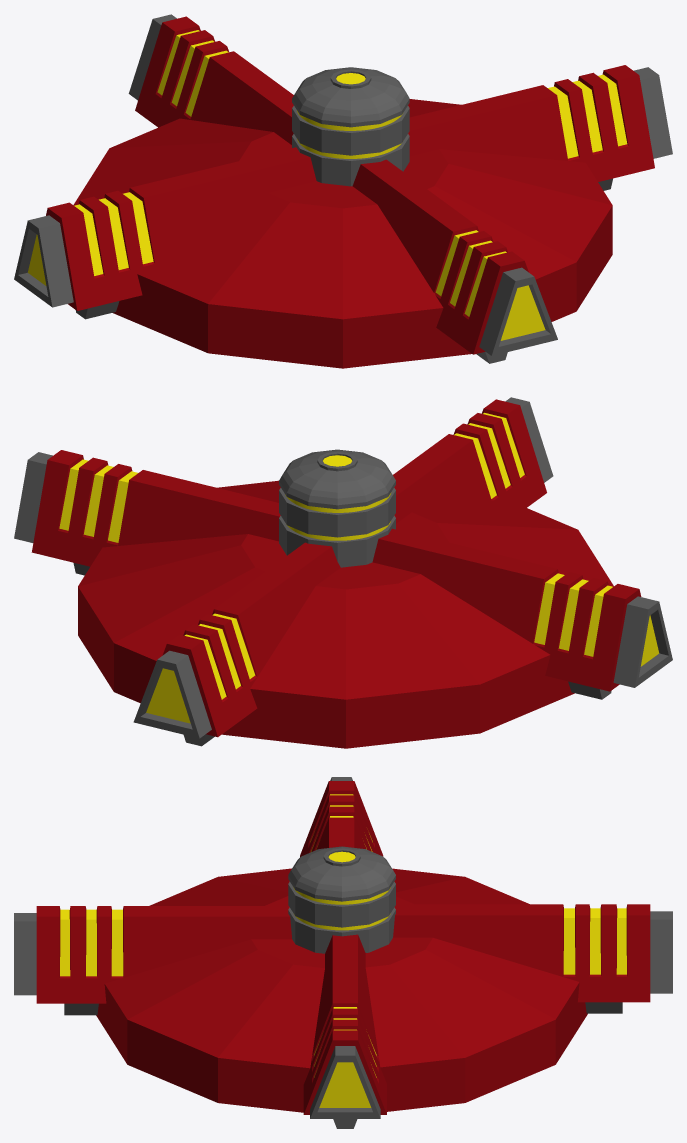
The model's file is Volley_Top_Lvl1.fbx.
The picture shows the model from 3 angles, top to bottom: view 1: azimuth 30°, elevation 25°; view 2: azimuth 150°, elevation 25°; view 3: azimuth 270°, elevation 25°; orthographic projection. The views are drawn at different scales.
Parts seen in each view (by area): view 1: Cylinder.026, Cube.002, Cube.022, Cube.027, Cube.017, Gun Side Piece L.012, Cube.003, Cube.028, Cube.007, Cube.026, Cube.023, Cube.029 (+4 smaller); view 2: Cylinder.026, Cube.002, Cube.022, Cube.017, Gun Side Piece L.012, Cube.027, Cube.003, Cube.018, Cube.007, Cube.026, Cube.023, Cube.019 (+4 smaller); view 3: Cylinder.026, Cube.017, Cube.027, Gun Side Piece L.012, Cube.022, Cube.002, Cube.031, Cube.021, Cube.023, Cube.018, Cube.028, Cube.024 (+1 smaller).
Part boxes in pixels (x1,y1,x2,y2): Cylinder.026: (73, 99, 612, 368); Cube.002: (46, 147, 316, 310); Cube.022: (408, 65, 654, 181); Cube.027: (352, 159, 528, 354); Cube.017: (135, 16, 293, 144); Gun Side Piece L.012: (292, 67, 409, 186); Cube.003: (14, 215, 73, 307); Cube.028: (479, 267, 557, 355); Cube.007: (74, 192, 153, 275); Cube.026: (548, 74, 627, 158); Cube.023: (633, 67, 672, 158); Cube.029: (500, 285, 545, 340); Cylinder.026: (78, 480, 613, 748); Cube.002: (372, 528, 641, 691); Cube.022: (31, 450, 280, 566); Cube.017: (162, 542, 340, 737); Gun Side Piece L.012: (279, 449, 395, 567); Cube.027: (393, 399, 546, 523); Cube.003: (613, 596, 672, 687); Cube.018: (133, 650, 211, 738); Cube.007: (534, 573, 612, 656); Cube.026: (59, 459, 137, 542); Cube.023: (14, 452, 52, 542); Cube.019: (146, 668, 190, 723); Cylinder.026: (96, 868, 587, 1112); Cube.017: (393, 904, 650, 1002); Cube.027: (36, 906, 291, 1003); Gun Side Piece L.012: (288, 846, 395, 953); Cube.022: (303, 934, 386, 1114); Cube.002: (300, 781, 383, 856); Cube.031: (60, 909, 123, 976); Cube.021: (563, 908, 626, 974); Cube.023: (310, 1046, 380, 1118); Cube.018: (650, 911, 672, 993); Cube.028: (14, 913, 36, 995); Cube.024: (319, 1062, 371, 1107).
Bounding box in the file's own units: 446 × 119 × 446.
